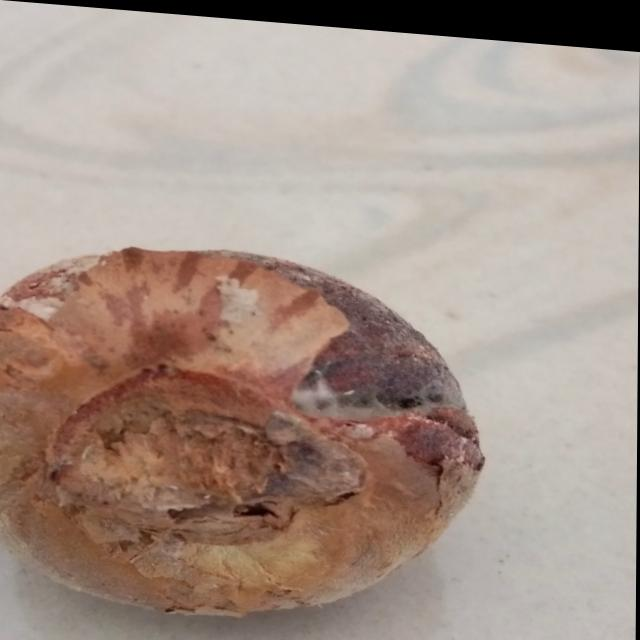karigot: (0, 232, 545, 640)
